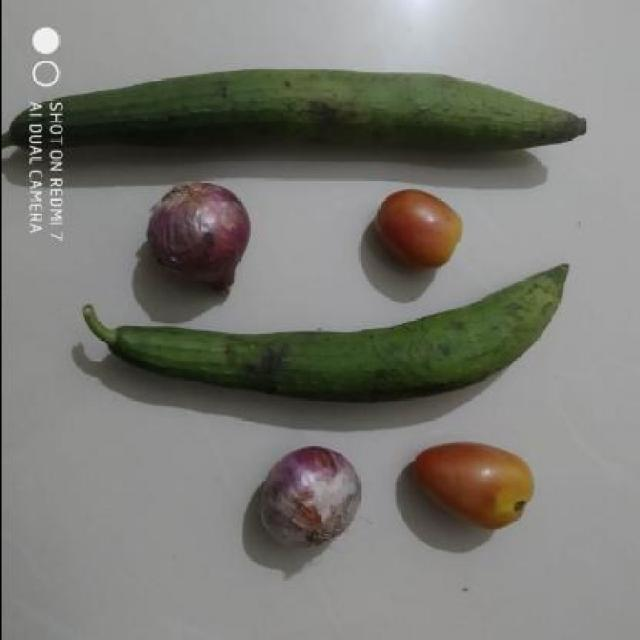Onion: (243, 441, 366, 577), (142, 182, 262, 298)
Sponge Gourd: (77, 260, 592, 443), (0, 52, 602, 190)
Tomato: (403, 440, 542, 537), (357, 184, 465, 280)
